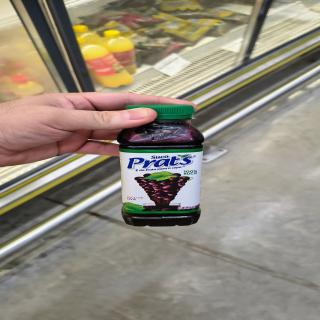Juice: (115, 102, 202, 232)
